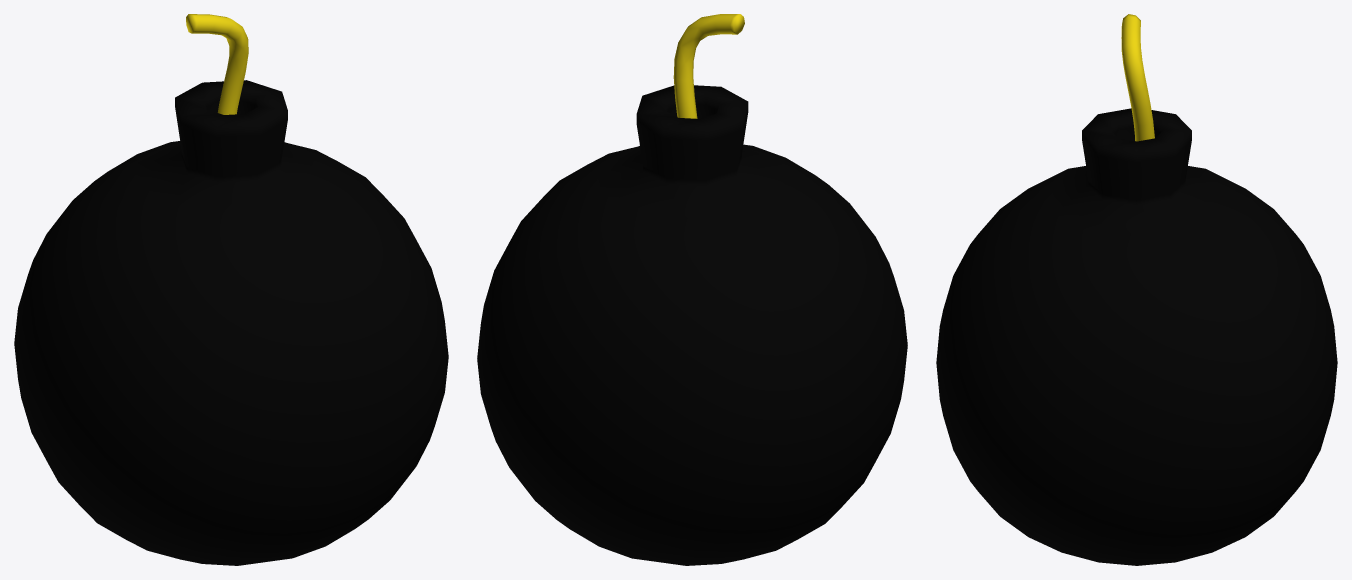
The model's file is Bomba.fbx.
The picture shows the model from 3 angles, left to right: view 1: azimuth 30°, elevation 25°; view 2: azimuth 150°, elevation 25°; view 3: azimuth 270°, elevation 25°; orthographic projection. The views are drawn at different scales.
Visible parts, largest first — view 1: Bomb; view 2: Bomb; view 3: Bomb.
Part boxes in pixels (<box>): Bomb: <box>14,14,448,565</box>; Bomb: <box>477,14,907,565</box>; Bomb: <box>936,14,1337,565</box>.
Bounding box in the file's own units: 30 × 42.11 × 30.
